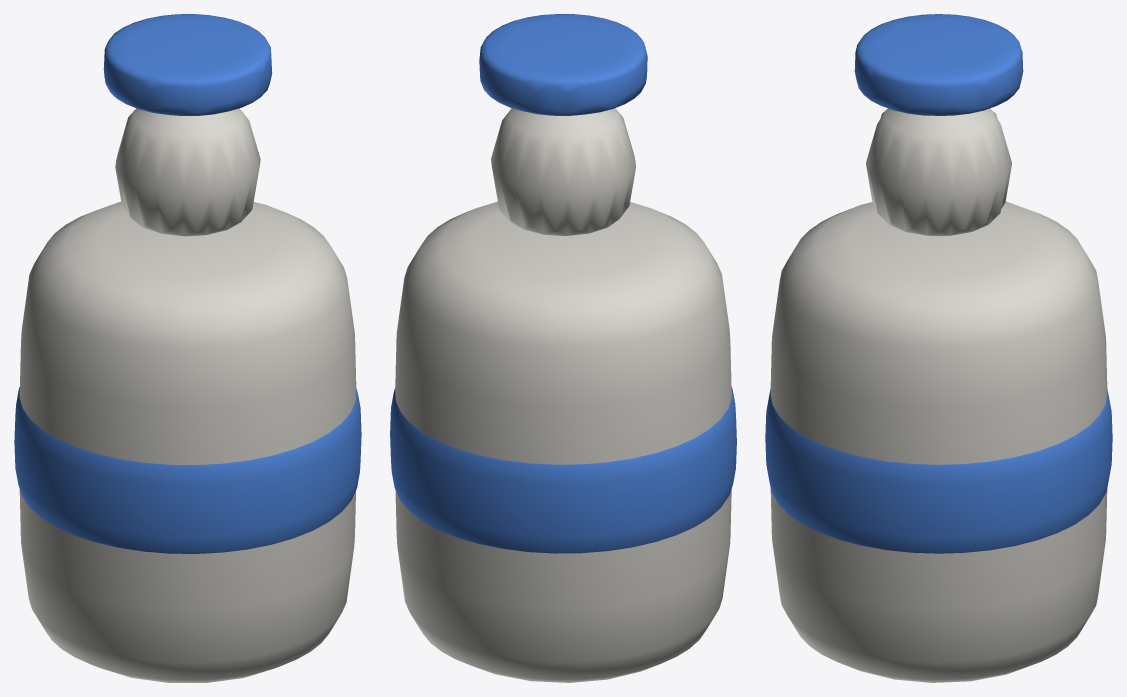
The model's file is Milchflasche.fbx.
3 renders of one model, left to right at view 1: azimuth 30°, elevation 25°; view 2: azimuth 150°, elevation 25°; view 3: azimuth 270°, elevation 25°, orthographic.
Visible parts, largest first — view 1: Milchflasche; view 2: Milchflasche; view 3: Milchflasche.
Boxes of the visible parts, box(x1,y1,x2,y2) form: Milchflasche: box(14, 14, 361, 682); Milchflasche: box(390, 14, 736, 682); Milchflasche: box(765, 14, 1112, 682).
Size of the model in its own units: 0.4811 by 0.9091 by 0.4811.
